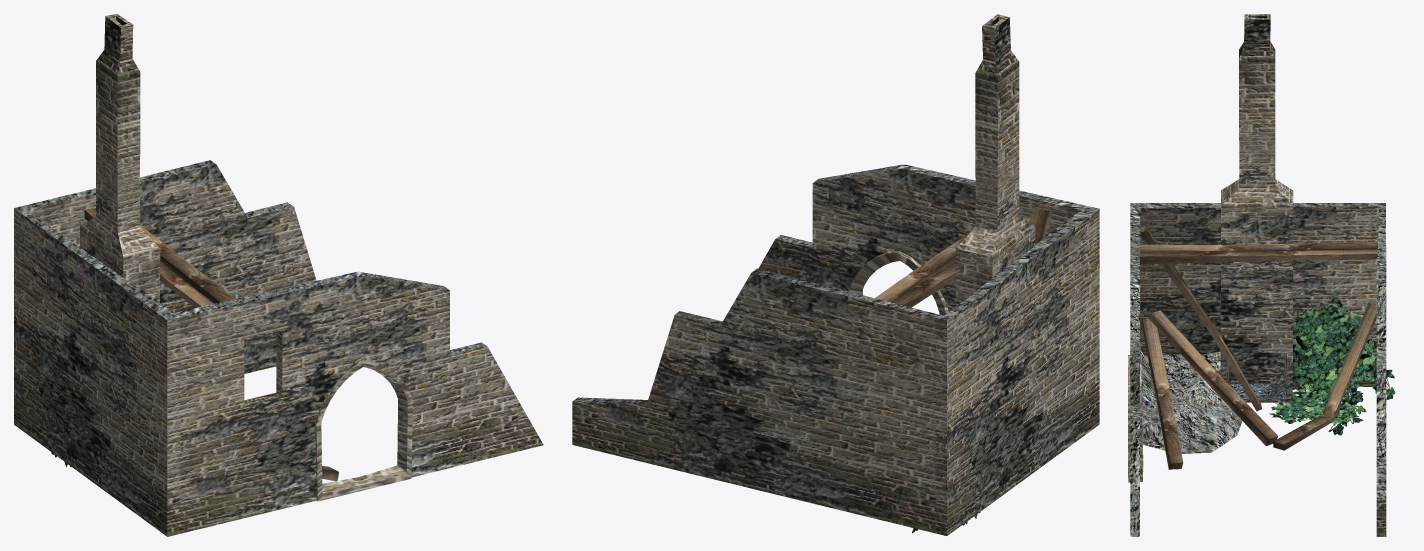
Rendered from building_ruin_06.glb.
The picture shows the model from 3 angles, left to right: view 1: azimuth 30°, elevation 25°; view 2: azimuth 150°, elevation 25°; view 3: azimuth 270°, elevation 25°; orthographic projection. The views are drawn at different scales.
Visible parts, largest first — view 1: building_ruin_06; view 2: building_ruin_06; view 3: building_ruin_06.
Boxes of the visible parts, x1=… form: building_ruin_06: x1=14, y1=14, x2=543, y2=536; building_ruin_06: x1=572, y1=14, x2=1099, y2=535; building_ruin_06: x1=1128, y1=14, x2=1395, y2=536.
Bounding box in the file's own units: 11.6 × 14.47 × 9.02.
Materials: 5 (5 with a texture image).
